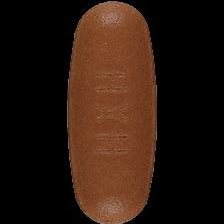68258-6053: (0, 0, 224, 224)
